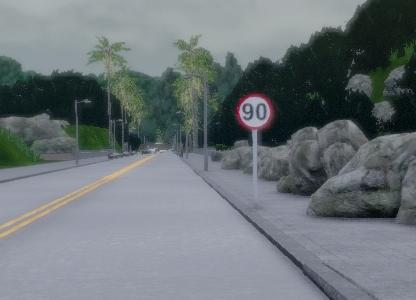Speed_90: (235, 88, 274, 131)
